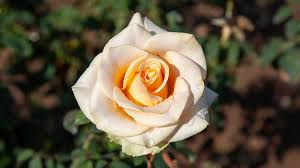lale: (71, 10, 220, 168)
